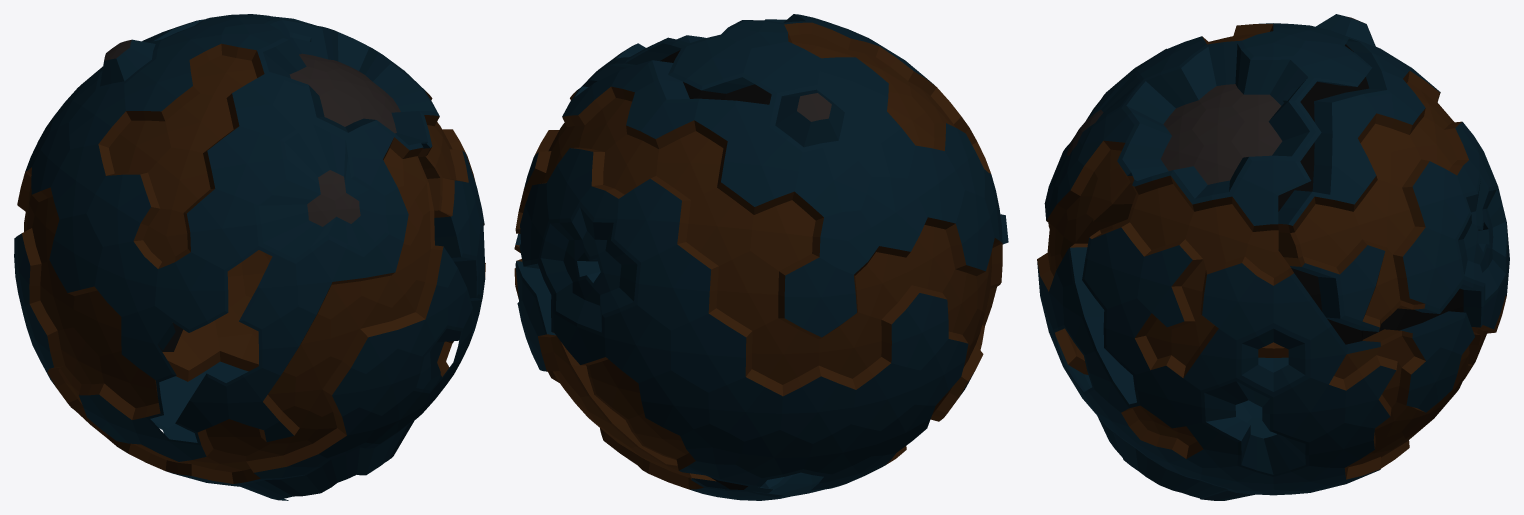
File: Planet1Dest3.glb
The picture shows the model from 3 angles, left to right: view 1: azimuth 30°, elevation 25°; view 2: azimuth 150°, elevation 25°; view 3: azimuth 270°, elevation 25°; orthographic projection. The views are drawn at different scales.
Visible parts, largest first — view 1: Icosphere.022; view 2: Icosphere.022; view 3: Icosphere.022.
Boxes of the visible parts, bbox=[...] form: Icosphere.022: bbox=[14, 14, 485, 500]; Icosphere.022: bbox=[514, 14, 1008, 500]; Icosphere.022: bbox=[1037, 14, 1509, 500].
Bounding box in the file's own units: 1.8 × 1.85 × 1.81.
